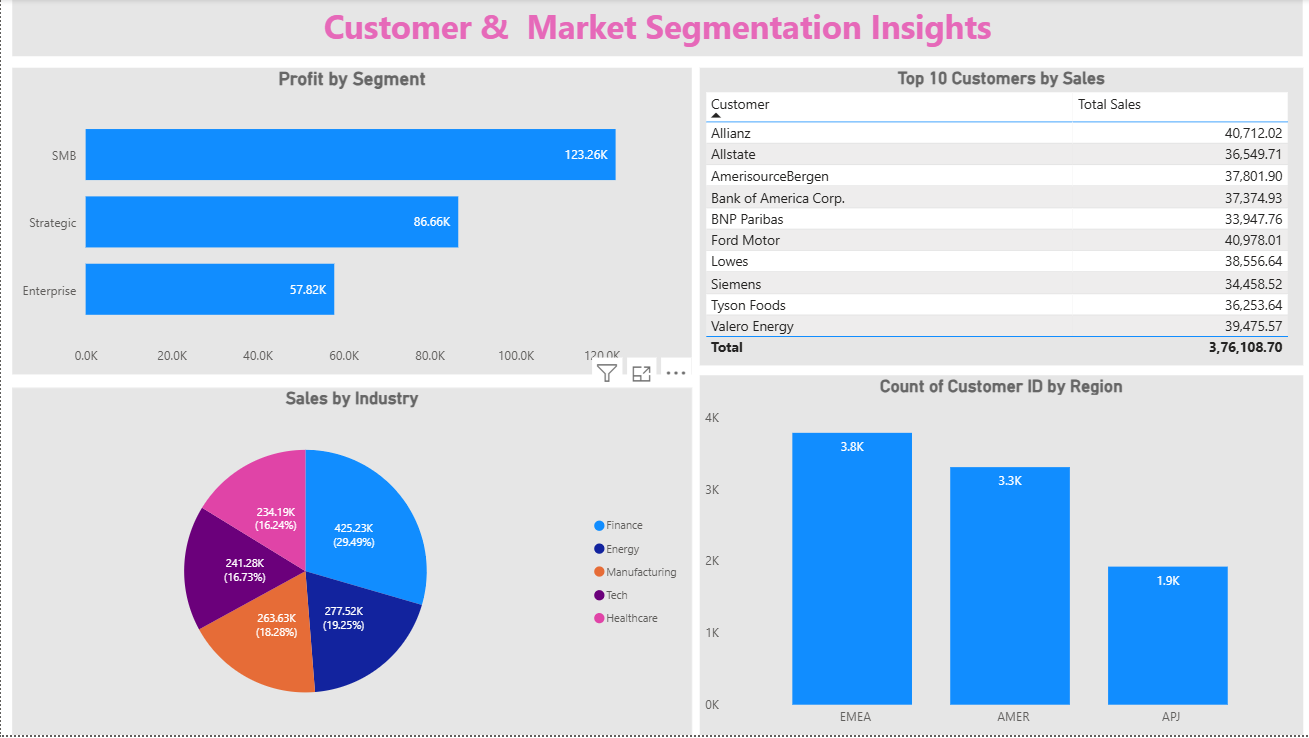

This screenshot's page, from the dashboard's own definition file:
{"tool":"powerbi","page":{"name":"Customer & Segment Analysis","canvas":[1280,720],"ordinal":2},"visuals":[{"type":"barChart","title":"Profit by Segment","fields":{"Category":["SaaS-Sales.Segment"],"Y":["SaaS-Sales.Total Profit"]},"box":[11.2,67.5,665,300],"z":0},{"type":"tableEx","title":"Top 10 Customers by Sales","fields":{"Values":["SaaS-Sales.Customer","SaaS-Sales.Total Sales"]},"box":[683.8,67.5,590,291.2],"z":1000},{"type":"pieChart","title":"Sales by Industry","fields":{"Category":["SaaS-Sales.Industry"],"Y":["SaaS-Sales.Total Sales"]},"box":[11.2,380,665,340],"z":2000},{"type":"columnChart","fields":{"Category":["SaaS-Sales.Region"],"Y":["CountNonNull(SaaS-Sales.Customer ID)"]},"box":[683.8,367.5,590,352.5],"z":3000},{"type":"textbox","box":[11.2,0,1262.5,56.2],"z":4000}]}

Visuals, with their boxes in screenshot pixels (x1, y1, x2, y2), scaled from the page's 1280x720 canvas onto the 1309x738 screenshot:
"Profit by Segment" barChart: x1=11, y1=69, x2=692, y2=377
"Top 10 Customers by Sales" tableEx: x1=699, y1=69, x2=1303, y2=368
"Sales by Industry" pieChart: x1=11, y1=389, x2=692, y2=737
columnChart - SaaS-Sales.Region x CountNonNull(SaaS-Sales.Customer ID): x1=699, y1=377, x2=1303, y2=737
textbox: x1=11, y1=0, x2=1303, y2=58
